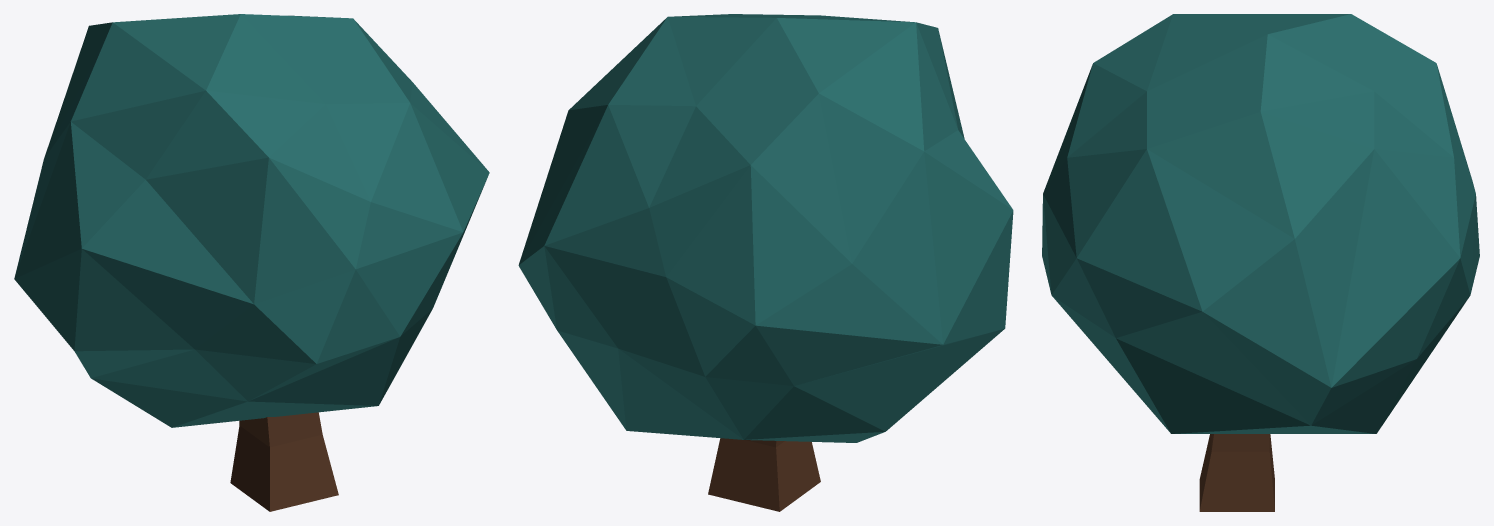
File: Tree_31_Blue.fbx
The picture shows the model from 3 angles, left to right: view 1: azimuth 30°, elevation 25°; view 2: azimuth 150°, elevation 25°; view 3: azimuth 270°, elevation 25°; orthographic projection. The views are drawn at different scales.
Parts seen in each view (by area): view 1: Tree_31_Blue_Part_1, Tree_31_Blue_Part_2; view 2: Tree_31_Blue_Part_1, Tree_31_Blue_Part_2; view 3: Tree_31_Blue_Part_1, Tree_31_Blue_Part_2.
Part boxes in pixels (bbox=[...]): Tree_31_Blue_Part_1: bbox=[14, 14, 489, 427]; Tree_31_Blue_Part_2: bbox=[230, 412, 338, 511]; Tree_31_Blue_Part_1: bbox=[518, 14, 1013, 442]; Tree_31_Blue_Part_2: bbox=[708, 438, 820, 511]; Tree_31_Blue_Part_1: bbox=[1042, 14, 1479, 433]; Tree_31_Blue_Part_2: bbox=[1199, 434, 1274, 511].
Size of the model in its own units: 732 by 807 by 713.
